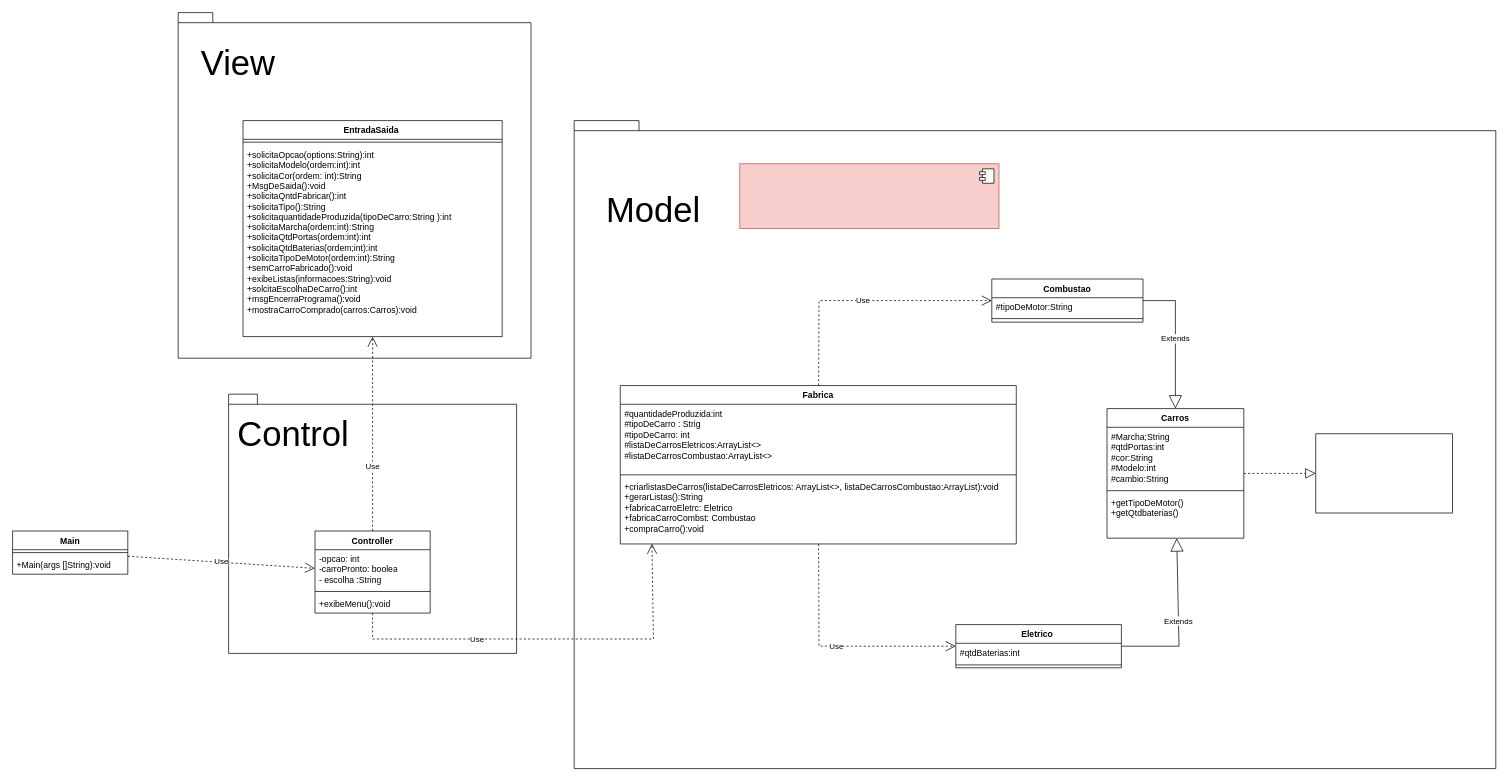
This 1508x781 diagram has some shape labels left out. The centre of each missing label's shape, as x and y in pixels:
"<<Interface>> Icarros +setMarcha():void +setQtdPortas:void +setCambio:void" goes at pixel 1384 473.
"«Annotation» Metodos Getters e Setters Omitidos no diagrama" goes at pixel 869 196.
